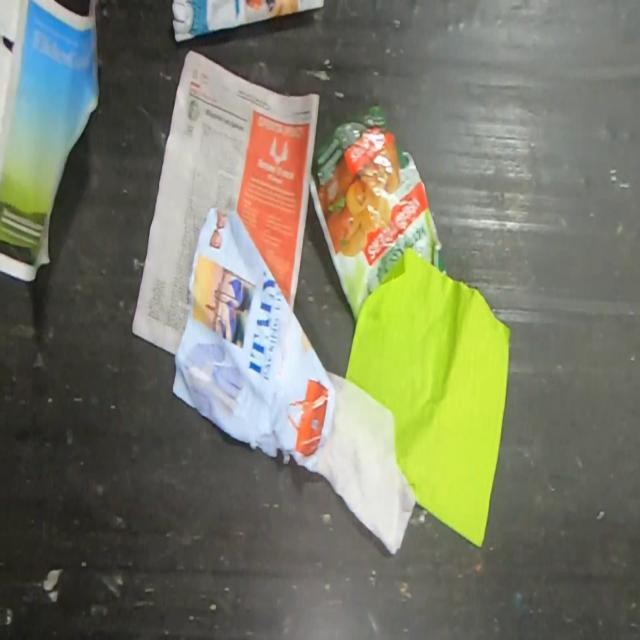soft_plastic: (306, 101, 448, 324)
